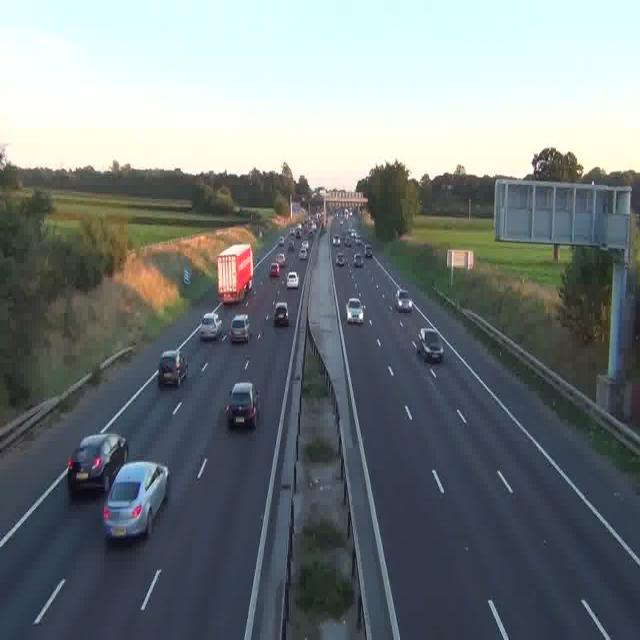car: (103, 462, 169, 540), (66, 433, 128, 497), (227, 382, 259, 430), (157, 349, 189, 386), (416, 326, 444, 363), (200, 312, 224, 340), (230, 313, 250, 342), (346, 298, 364, 324), (272, 302, 290, 327), (394, 288, 412, 312), (286, 270, 298, 289), (269, 260, 281, 276), (338, 251, 349, 265), (352, 252, 362, 266), (276, 253, 286, 266), (299, 248, 307, 261), (365, 244, 373, 257), (334, 235, 341, 246)
truck: (218, 243, 254, 302)
